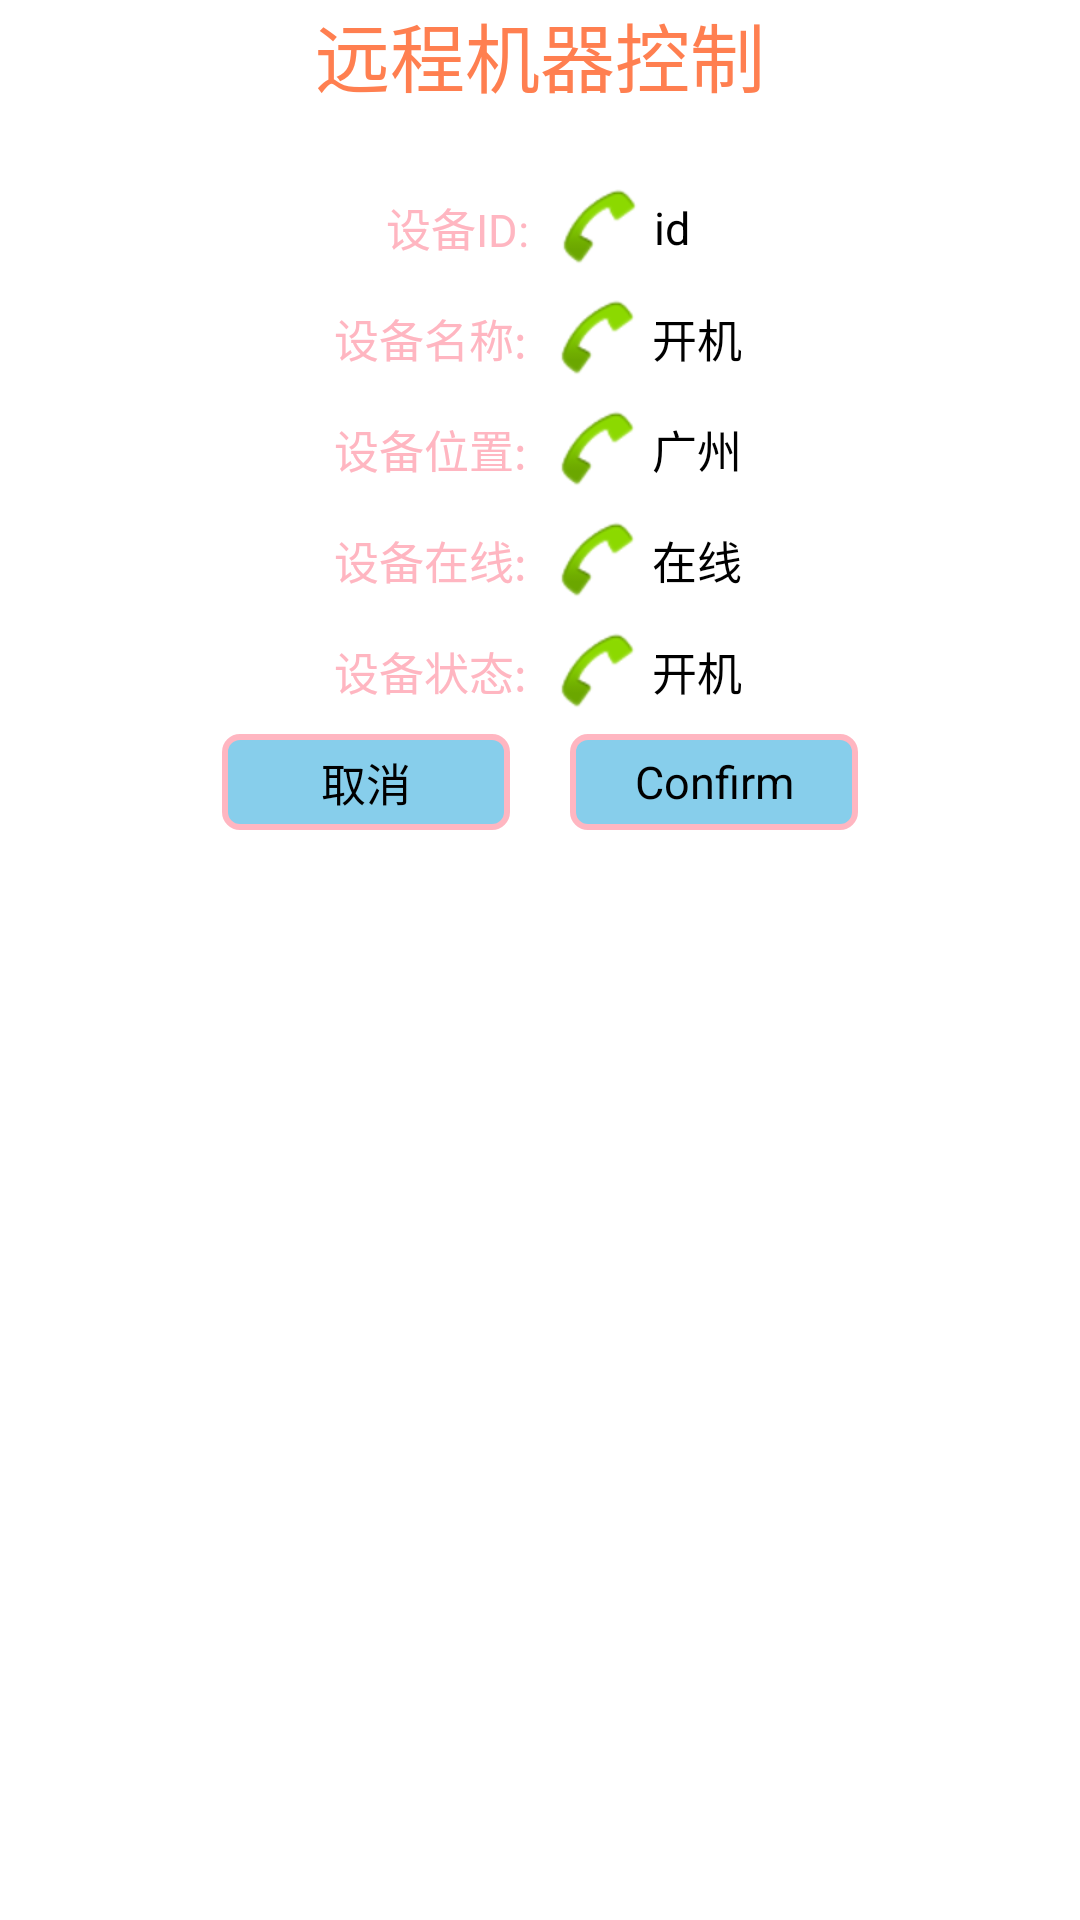

Where to tap for icons on this 1080px×1920px app screen, as [x,y]:
sym action call: [599,226], [597,337], [597,448], [597,559], [597,670]
